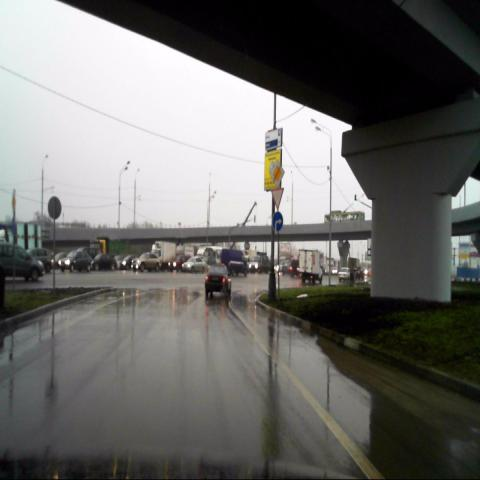2_2: (271, 159, 284, 186)
